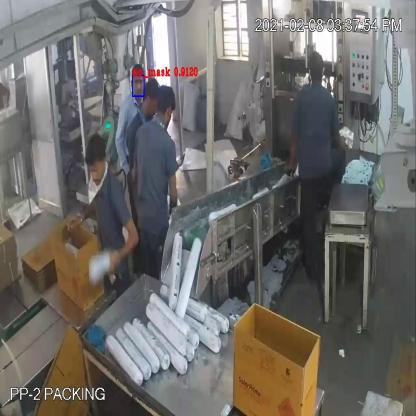no_glove: (102, 216, 143, 280), (62, 192, 102, 240)
